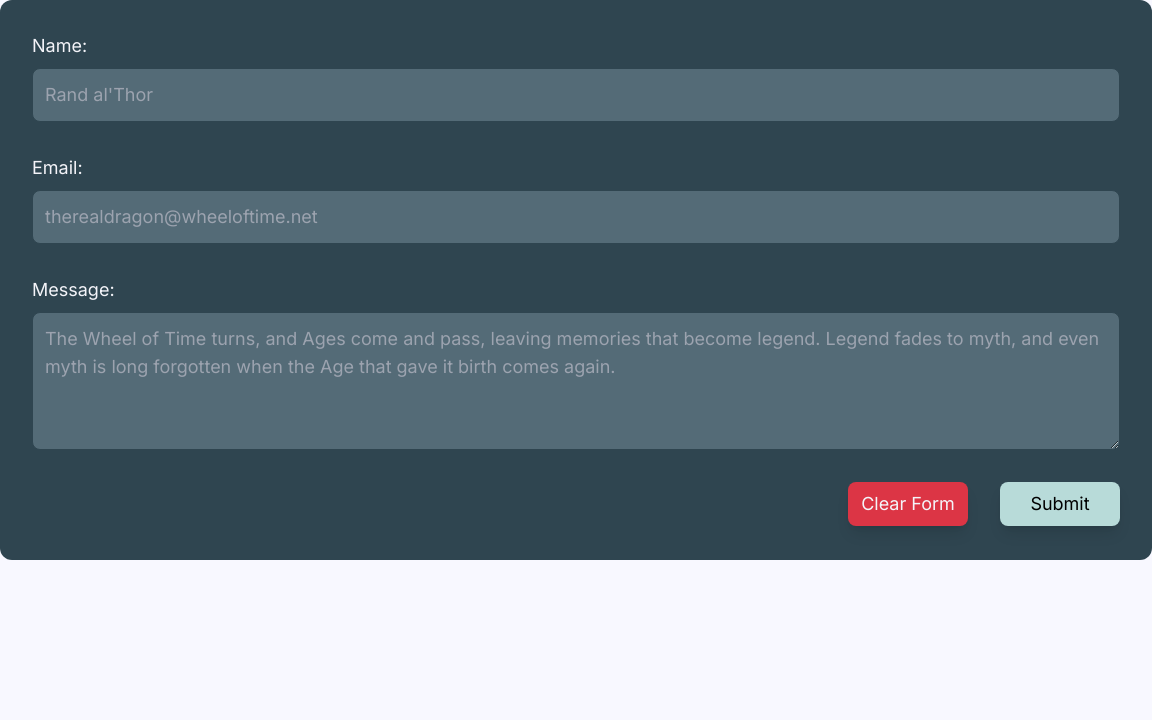
Contact Form › successfully submits data and gives the user appropriate feedback when "Submit" is clicked
Type "Cameroonie" into the field named "name" at point(576, 95), box [32,68,1120,122]
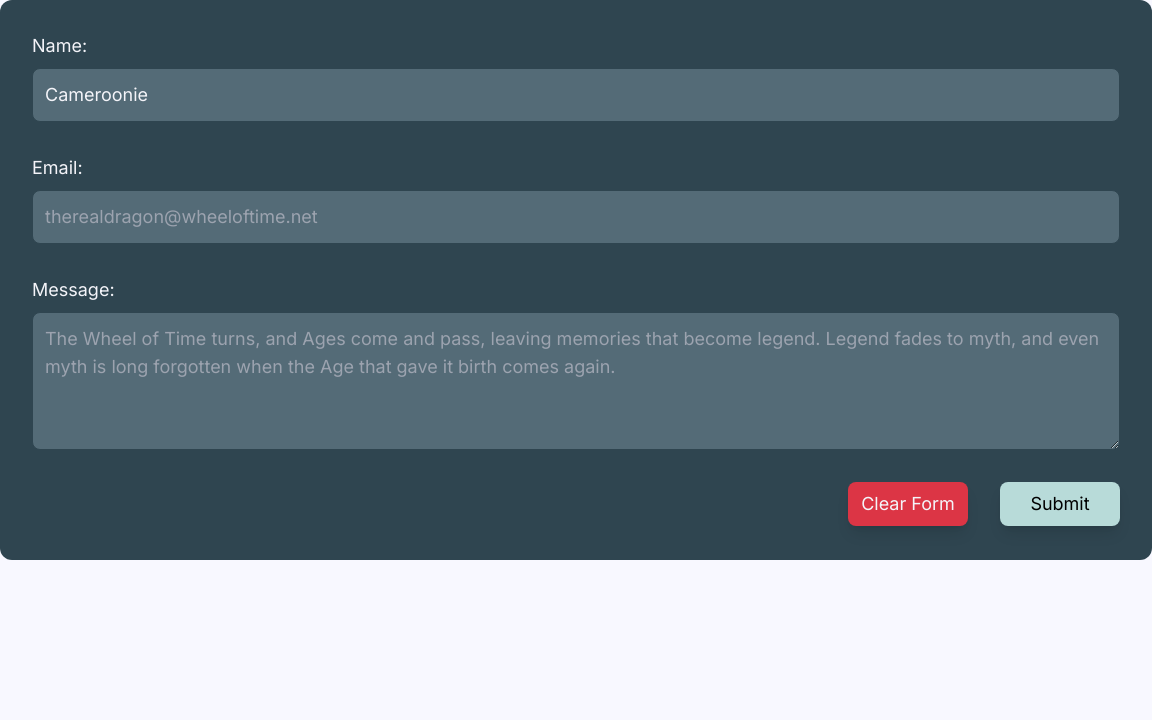
Type "cameroonie@bestest-test.com" into the field named "email" at point(576, 217), box [32,190,1120,244]
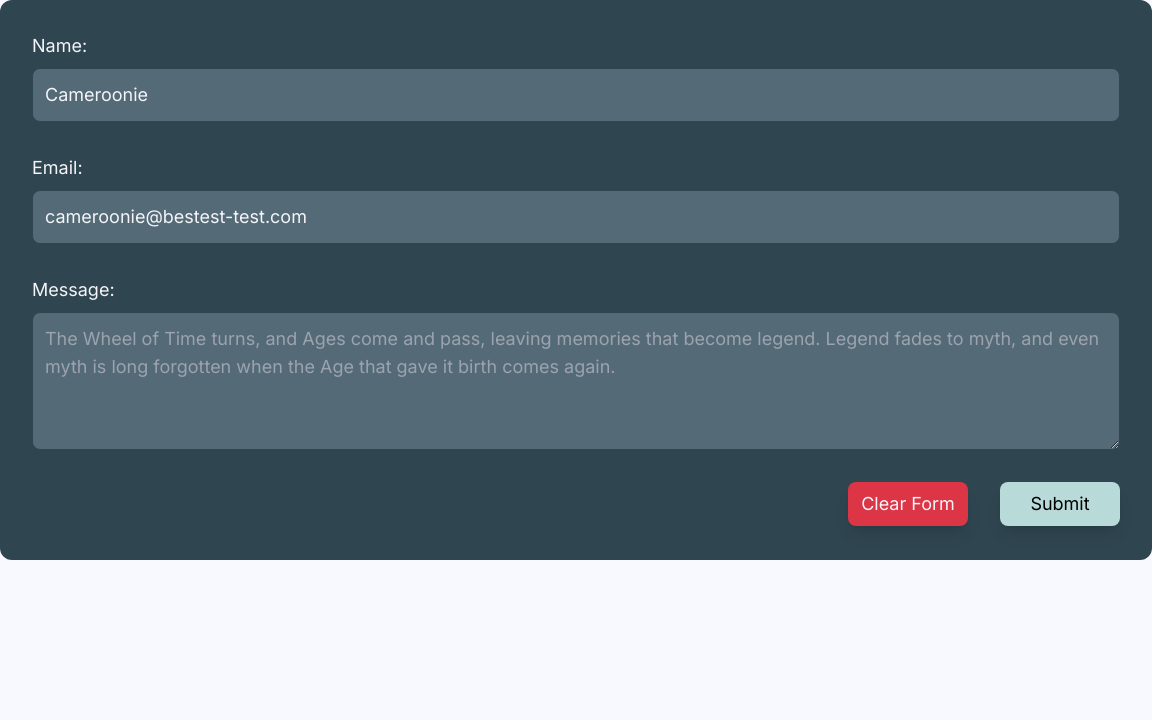
Replace the text in the text box named "message" with "Cameroon is a country in Africa." at point(576, 381), box [32,312,1120,450]
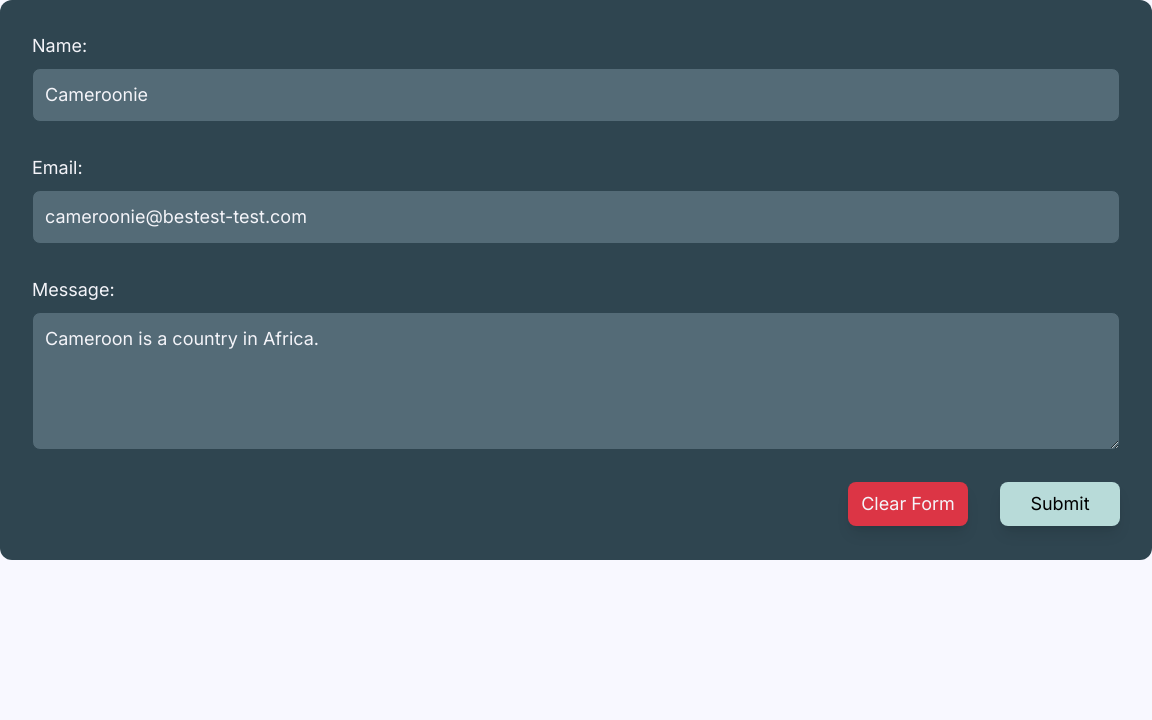
Click the button "Submit" at point(1060, 504), box [1000,482,1120,526]
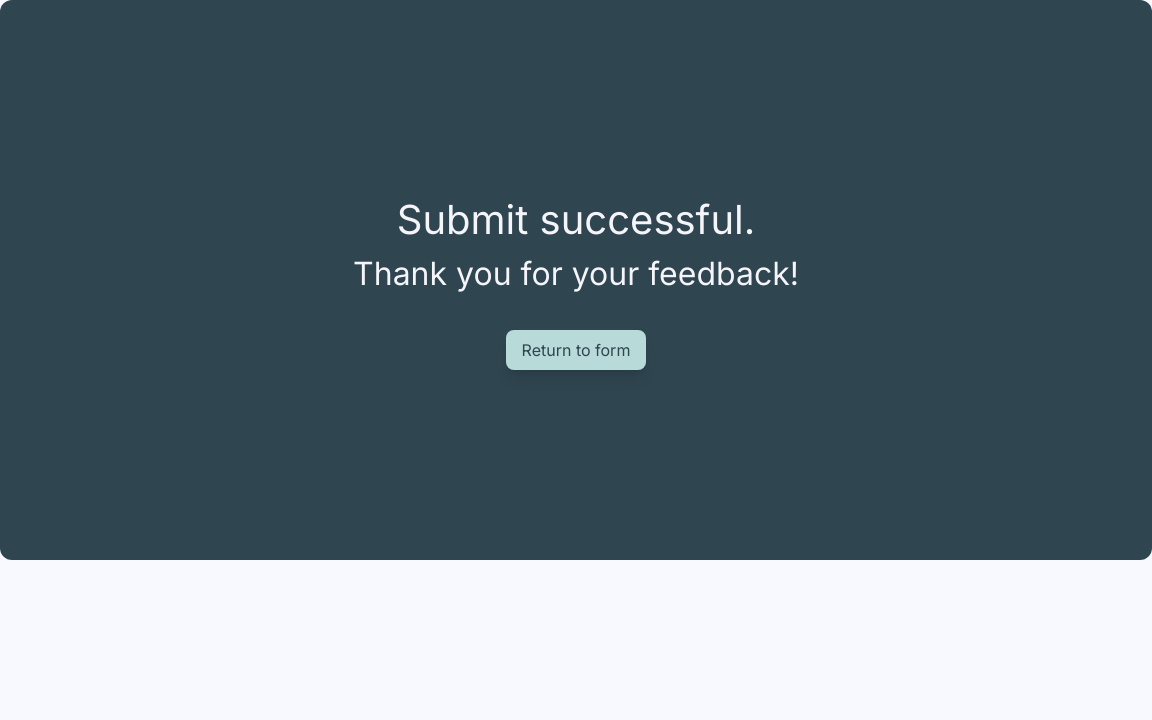
Expected: the heading "Submit successful." is shown, [397,190,755,250]
